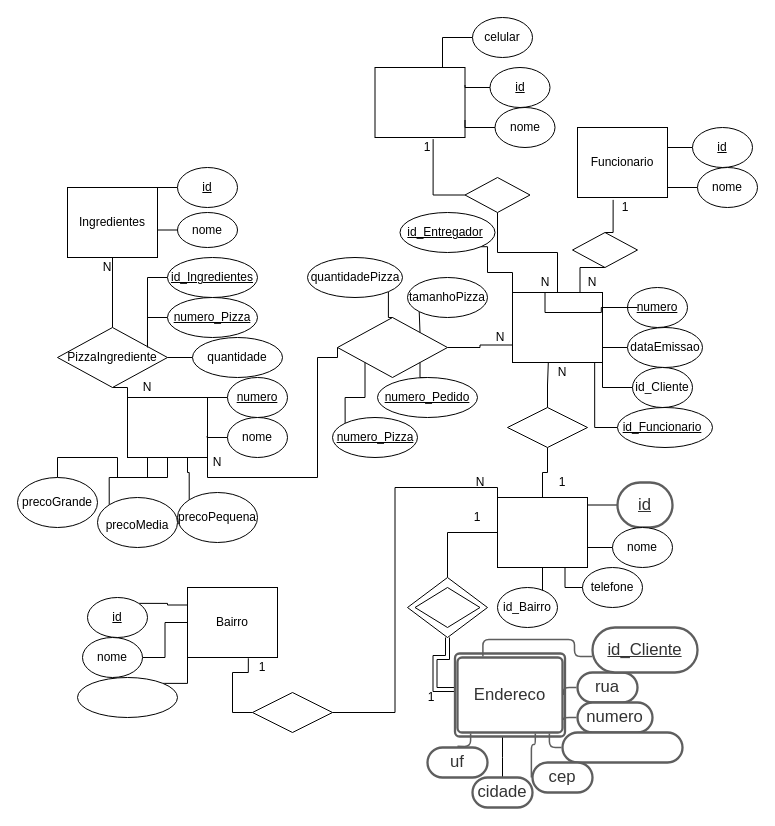
Image size: 775x826. Some labels were removed from this diagram. The centre of each missing label's shape, as x and y in pixels:
"Cliente" belongs at point (542, 532).
"complemento" belongs at point (622, 747).
"Entregador" belongs at point (419, 102).
"Pedido" belongs at point (557, 327).
"Pizza" belongs at point (167, 427).
"PizzaPedido" belongs at point (392, 347).
"tempoEntrega" belongs at point (127, 697).
